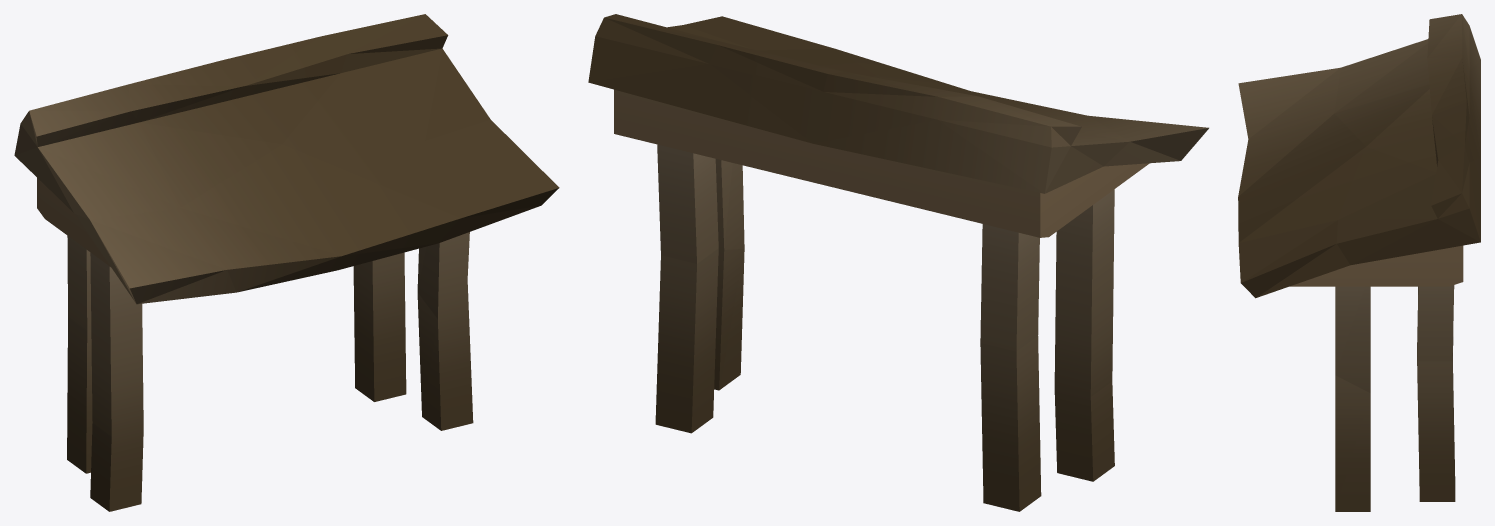
File: LogStorage.fbx
3 renders of one model, left to right at view 1: azimuth 30°, elevation 25°; view 2: azimuth 150°, elevation 25°; view 3: azimuth 270°, elevation 25°, orthographic. The views are drawn at different scales.
Visible parts, largest first — view 1: LogStorage; view 2: LogStorage; view 3: LogStorage.
Boxes of the visible parts, x1,y1,x2,y2 form: LogStorage: (14,14,559,511); LogStorage: (588,14,1208,511); LogStorage: (1238,14,1480,511).
Bounding box in the file's own units: 1.9 × 1.5 × 1.
Materials: 1 (1 with a texture image).
